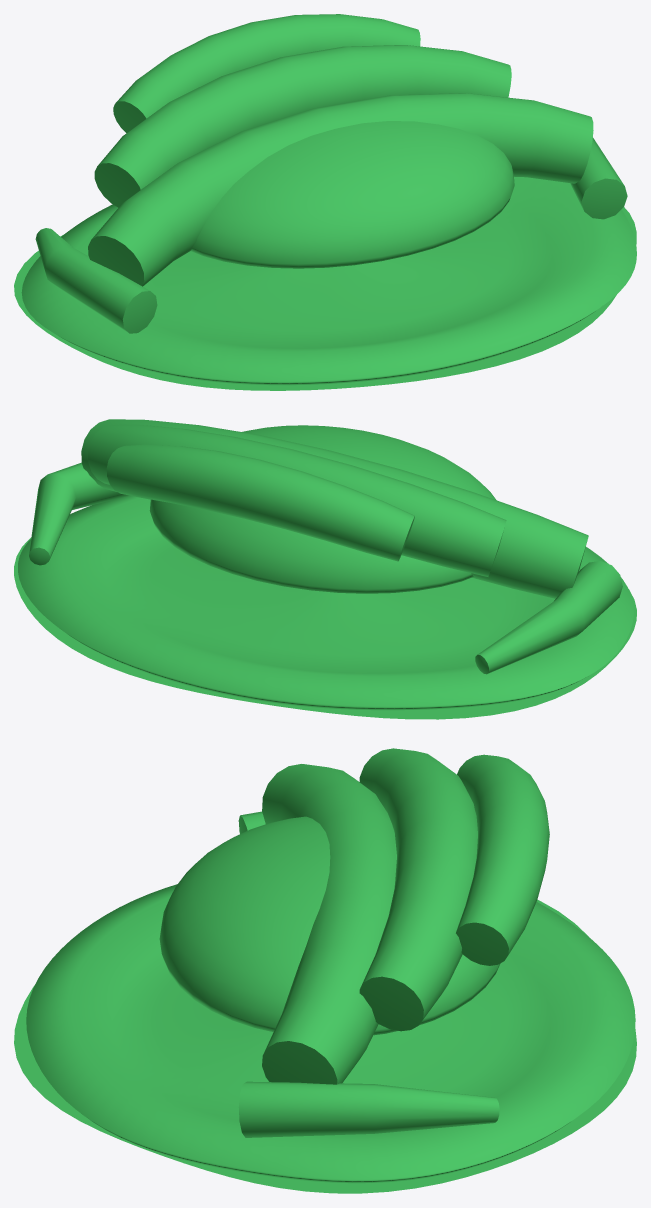
Rendered from defense_growth.glb.
The picture shows the model from 3 angles, top to bottom: view 1: azimuth 30°, elevation 25°; view 2: azimuth 150°, elevation 25°; view 3: azimuth 270°, elevation 25°; orthographic projection. The views are drawn at different scales.
Parts seen in each view (by area): view 1: defense_growth; view 2: defense_growth; view 3: defense_growth.
Part boxes in pixels (box(x1,y1,x2,y2)): defense_growth: box(14, 14, 636, 390); defense_growth: box(14, 419, 636, 719); defense_growth: box(14, 748, 636, 1193).
Bounding box in the file's own units: 1.86 × 0.6086 × 1.5.
